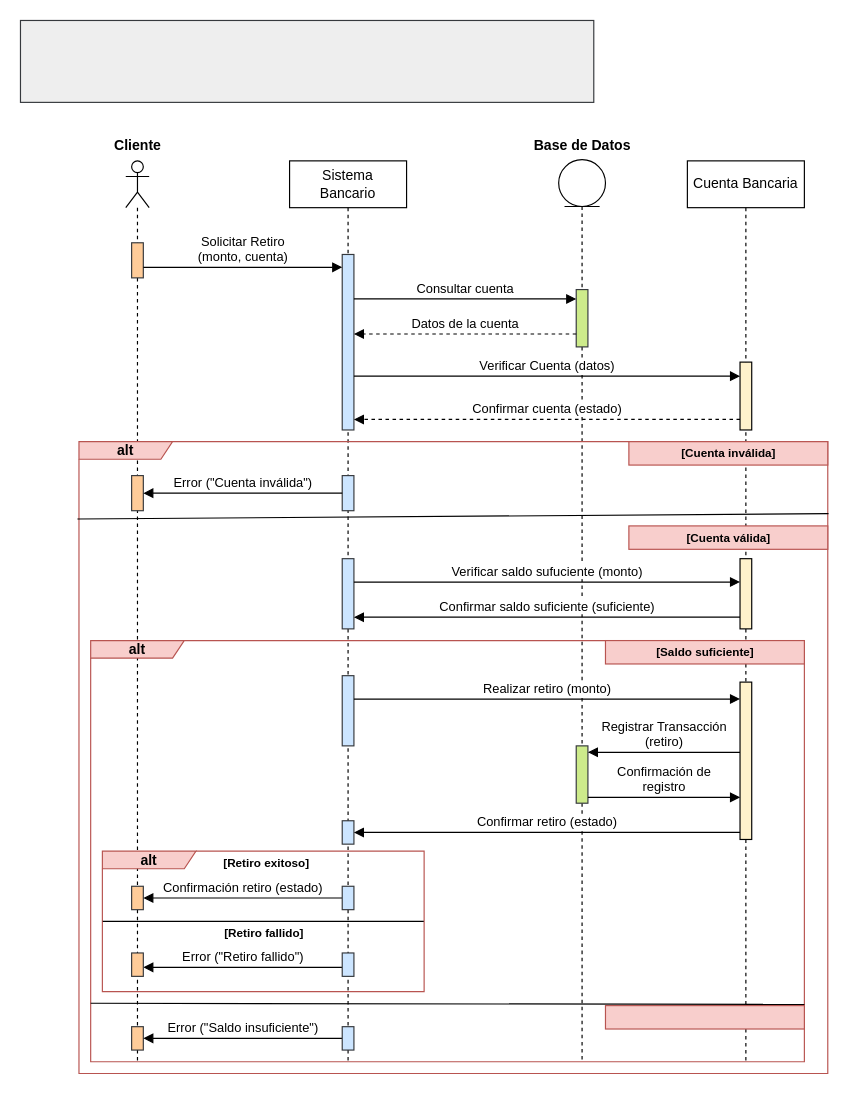
The diagram is 851 pixels wide and 1094 high, and some of its shapes have lost their labels. The box of each missing label's shape, as (x1, y1, x2, y2) in pixels:
[Saldo insuficiente]: (604, 1004, 804, 1029)
Realizar un retiro Diagrama de secuencia para solicitar un retiro bancario.: (19, 19, 594, 102)
